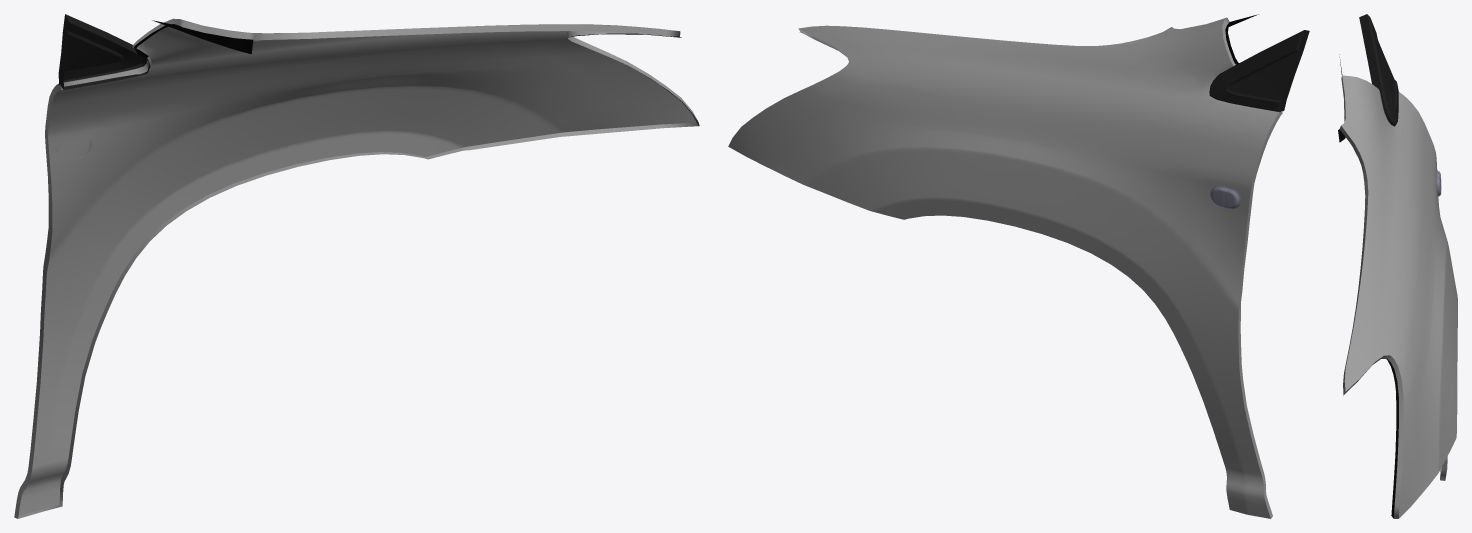
The picture shows the model from 3 angles, left to right: view 1: azimuth 30°, elevation 25°; view 2: azimuth 150°, elevation 25°; view 3: azimuth 270°, elevation 25°; orthographic projection. The views are drawn at different scales.
Visible parts, largest first — view 1: LX61_121B_L_2_DaS_LX61_121B_L, LX61_121B_L_2_DaS_LX61_121B_L_E, LX61_121B_L_LX61_121B_L_3_D, LX61_121B_L_LX61_121B_L_5_D; view 2: LX61_121B_L_2_DaS_LX61_121B_L, LX61_121B_L_LX61_121B_L_3_D, LX61_121B_L_2_DaS_LX61_121B_L_E; view 3: LX61_121B_L_2_DaS_LX61_121B_L, LX61_121B_L_2_DaS_LX61_121B_L_E, LX61_121B_L_LX61_121B_L_3_D, LX61_121B_L_LX61_121B_L_5_D.
Boxes of the visible parts, x1,y1,x2,y2 form: LX61_121B_L_2_DaS_LX61_121B_L: (18, 19, 696, 516); LX61_121B_L_2_DaS_LX61_121B_L_E: (14, 18, 699, 518); LX61_121B_L_LX61_121B_L_3_D: (58, 14, 149, 89); LX61_121B_L_LX61_121B_L_5_D: (134, 20, 699, 125); LX61_121B_L_2_DaS_LX61_121B_L: (728, 17, 1278, 518); LX61_121B_L_LX61_121B_L_3_D: (1209, 30, 1309, 111); LX61_121B_L_2_DaS_LX61_121B_L_E: (799, 18, 1282, 518); LX61_121B_L_2_DaS_LX61_121B_L: (1341, 75, 1457, 518); LX61_121B_L_2_DaS_LX61_121B_L_E: (1339, 76, 1447, 518); LX61_121B_L_LX61_121B_L_3_D: (1359, 14, 1398, 126); LX61_121B_L_LX61_121B_L_5_D: (1338, 54, 1398, 518).
Bounding box in the file's own units: 125 × 97.21 × 23.45.
